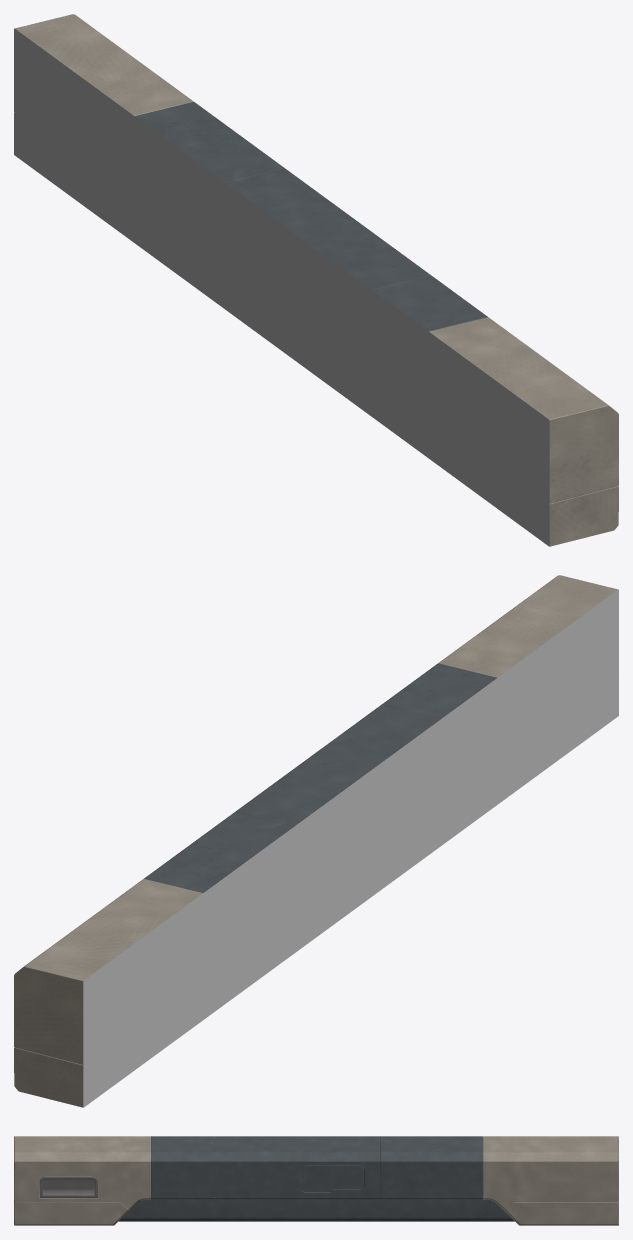
File: SM_RoomStyle01_UpperWall02.fbx
3 renders of one model, top to bottom at view 1: azimuth 30°, elevation 25°; view 2: azimuth 150°, elevation 25°; view 3: azimuth 270°, elevation 25°, orthographic. The views are drawn at different scales.
Visible parts, largest first — view 1: SM_RoomStyle01_UpperWall02_LOD0; view 2: SM_RoomStyle01_UpperWall02_LOD0; view 3: SM_RoomStyle01_UpperWall02_LOD0.
Boxes of the visible parts, x1=… form: SM_RoomStyle01_UpperWall02_LOD0: x1=14, y1=14, x2=618, y2=546; SM_RoomStyle01_UpperWall02_LOD0: x1=14, y1=575, x2=618, y2=1107; SM_RoomStyle01_UpperWall02_LOD0: x1=14, y1=1136, x2=618, y2=1225.
Size of the model in its own units: 26.33 by 350 by 45.79.
2 materials, 1 textured.
